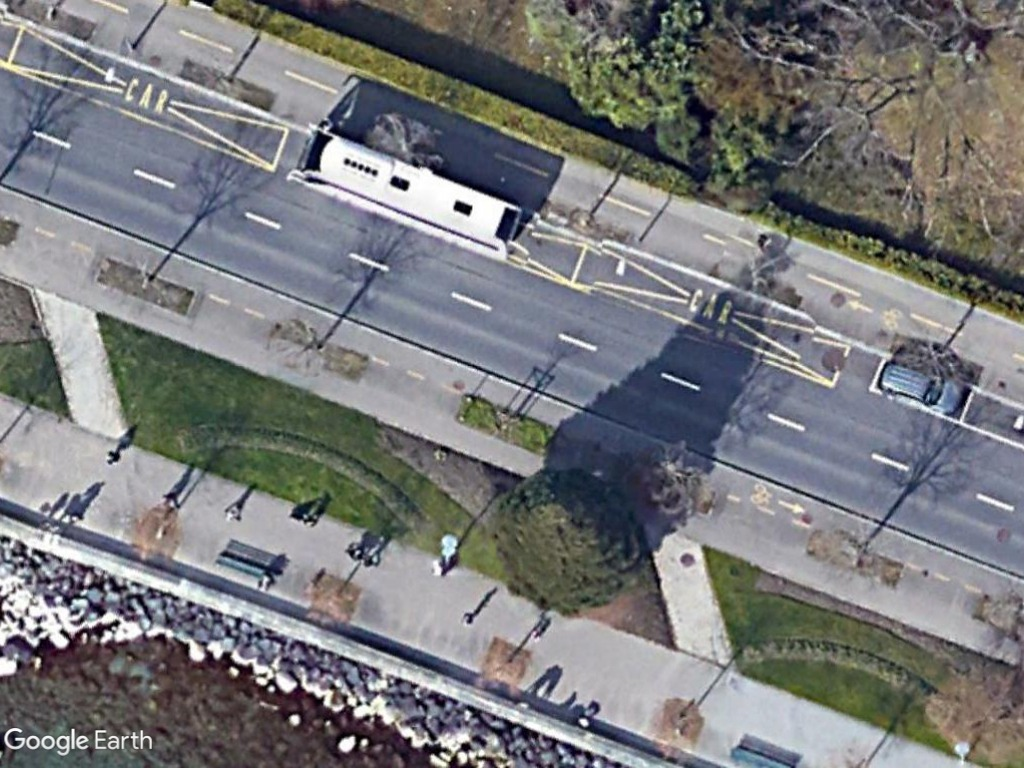bus: (296, 127, 527, 266)
car: (876, 359, 968, 417)
